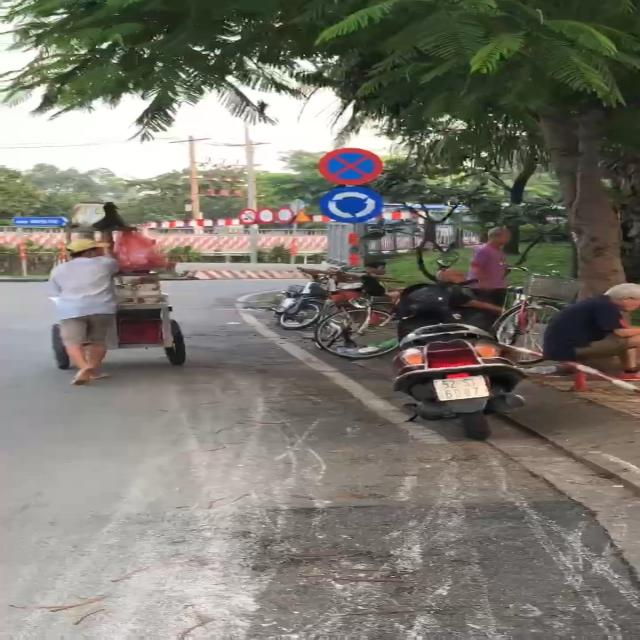Bien bao cam dung xe va do xe: (316, 143, 392, 186)
Bien bao noi giao nhau chay theo vong xuyen: (318, 186, 394, 227)
